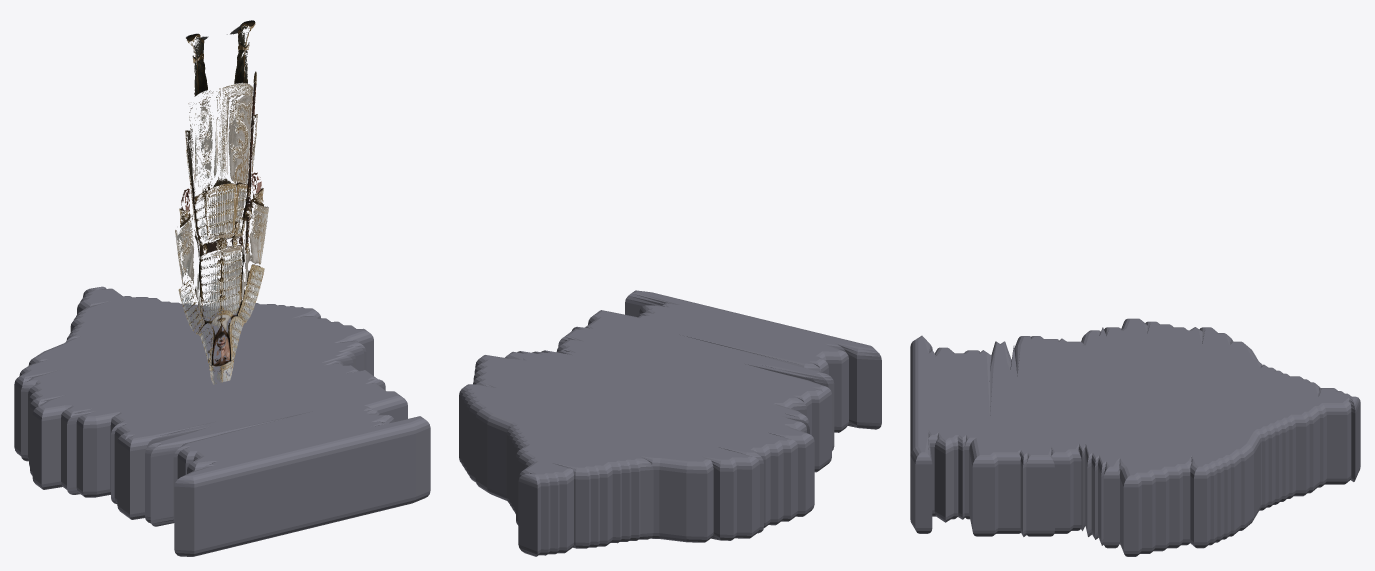
File: china_w.glb
3 views of the same model, side by side, from view 1: azimuth 30°, elevation 25°; view 2: azimuth 150°, elevation 25°; view 3: azimuth 270°, elevation 25° (orthographic).
Visible parts, largest first — view 1: unit; view 2: unit; view 3: unit.
Part boxes in pixels (box(x1,y1,x2,y2)): unit: box(14, 20, 430, 556); unit: box(459, 290, 881, 556); unit: box(910, 318, 1360, 556).
Size of the model in its own units: 0.7983 by 1 by 0.933.
Materials: 2 (1 with a texture image).
